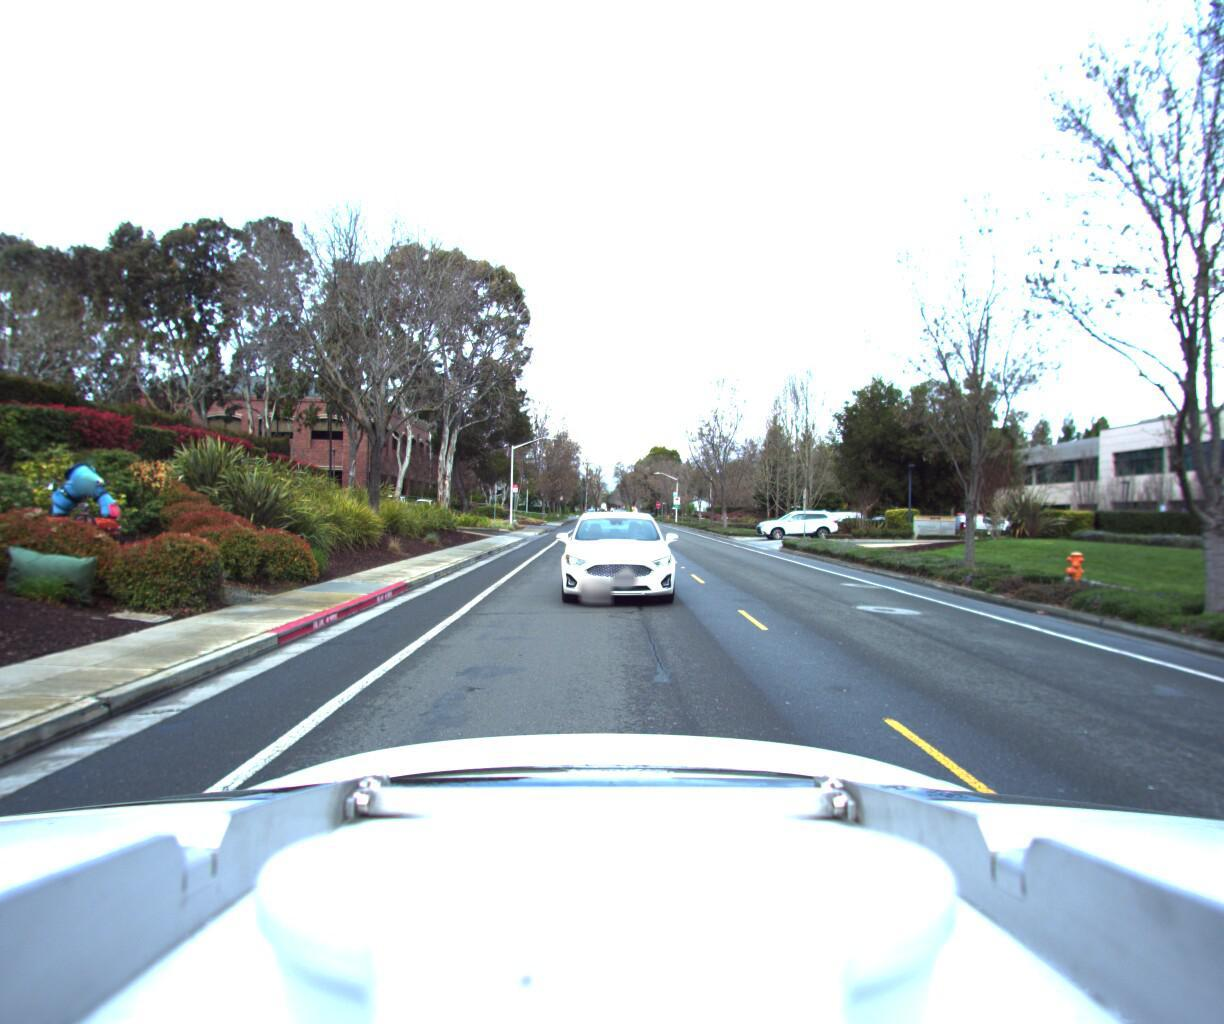car: (546, 506, 690, 617), (753, 509, 842, 543)
